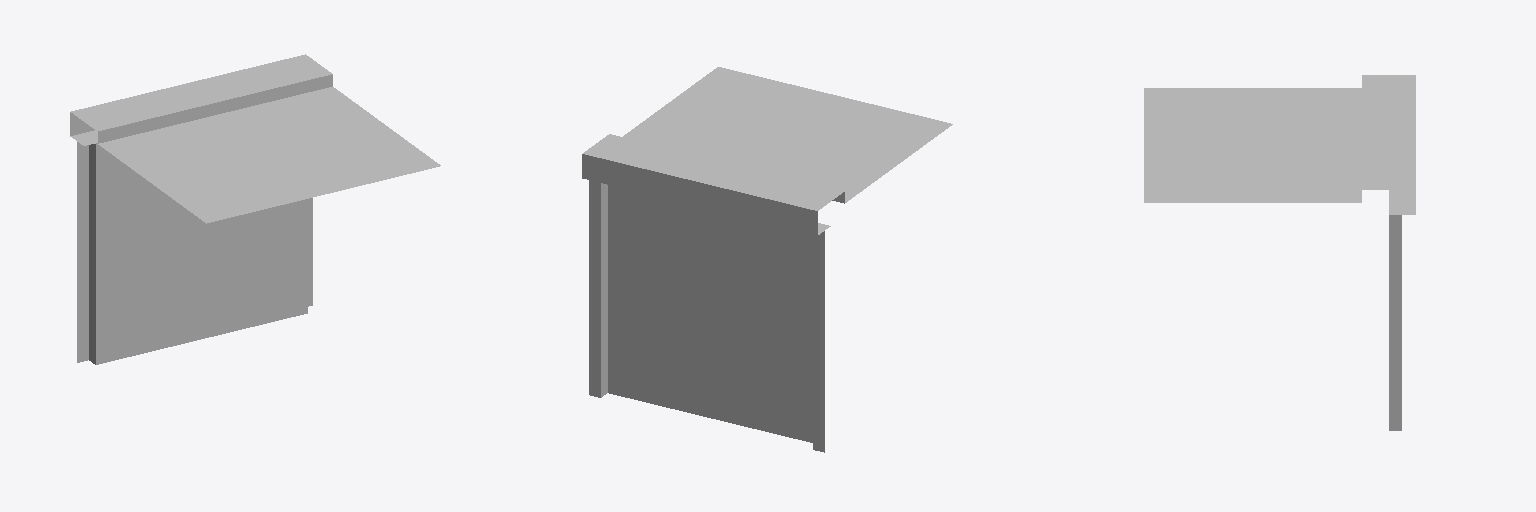
File: Straight_Edge_Wall_Roof_Outer_Corner.obj
The picture shows the model from 3 angles: view 1: azimuth 30°, elevation 25°; view 2: azimuth 150°, elevation 25°; view 3: azimuth 270°, elevation 25°; orthographic projection.
Visible parts, largest first — view 1: Straight_Edge_Wall_Roof_Outer_Corner; view 2: Straight_Edge_Wall_Roof_Outer_Corner; view 3: Straight_Edge_Wall_Roof_Outer_Corner.
Boxes of the visible parts, <box> form: Straight_Edge_Wall_Roof_Outer_Corner: <box>70,54,440,364</box>; Straight_Edge_Wall_Roof_Outer_Corner: <box>582,67,952,452</box>; Straight_Edge_Wall_Roof_Outer_Corner: <box>1144,75,1415,430</box>.
Bounding box in the file's own units: 1 × 1 × 1.